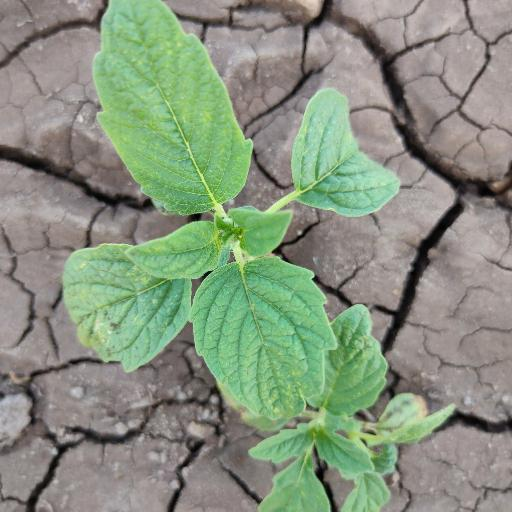crop: (40, 1, 458, 501)
